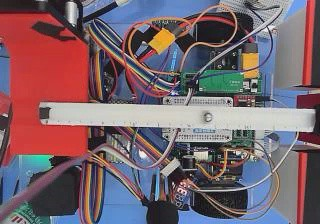ironball: (202, 112, 212, 121)
